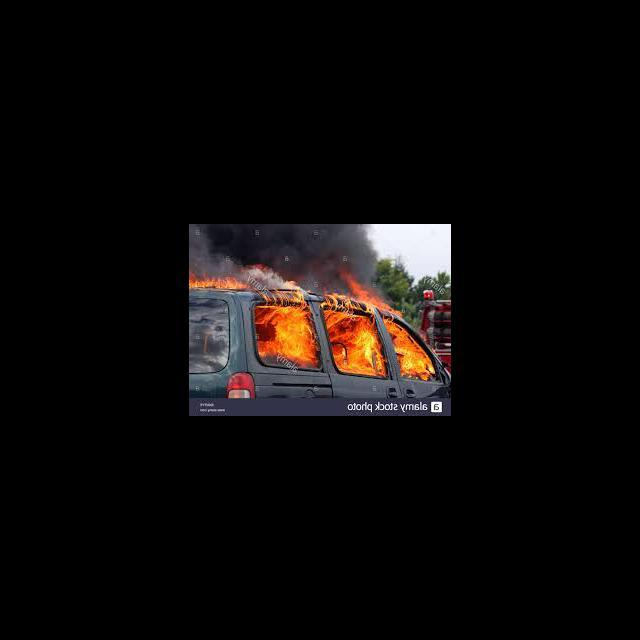Fire: (189, 264, 445, 382)
Smoke: (190, 224, 367, 262)
